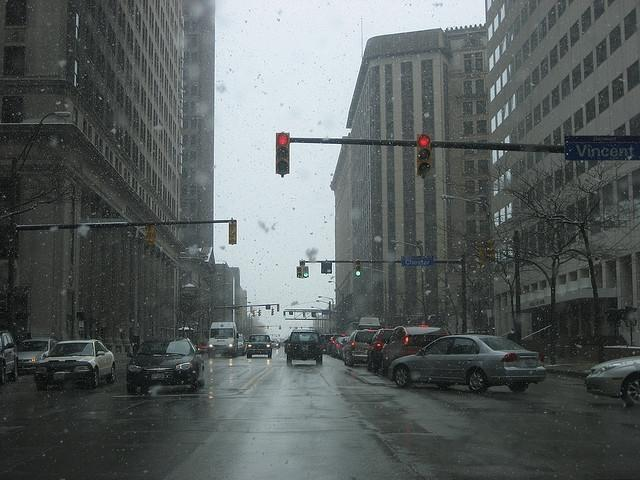car: (388, 335, 548, 393), (34, 340, 120, 392), (127, 338, 205, 394), (379, 326, 451, 377), (584, 354, 640, 406), (285, 328, 324, 366), (16, 338, 58, 372), (340, 330, 378, 366), (367, 329, 394, 365), (0, 332, 18, 384), (245, 334, 272, 358)
truck: (285, 329, 322, 366), (210, 320, 240, 358), (247, 334, 273, 358)
